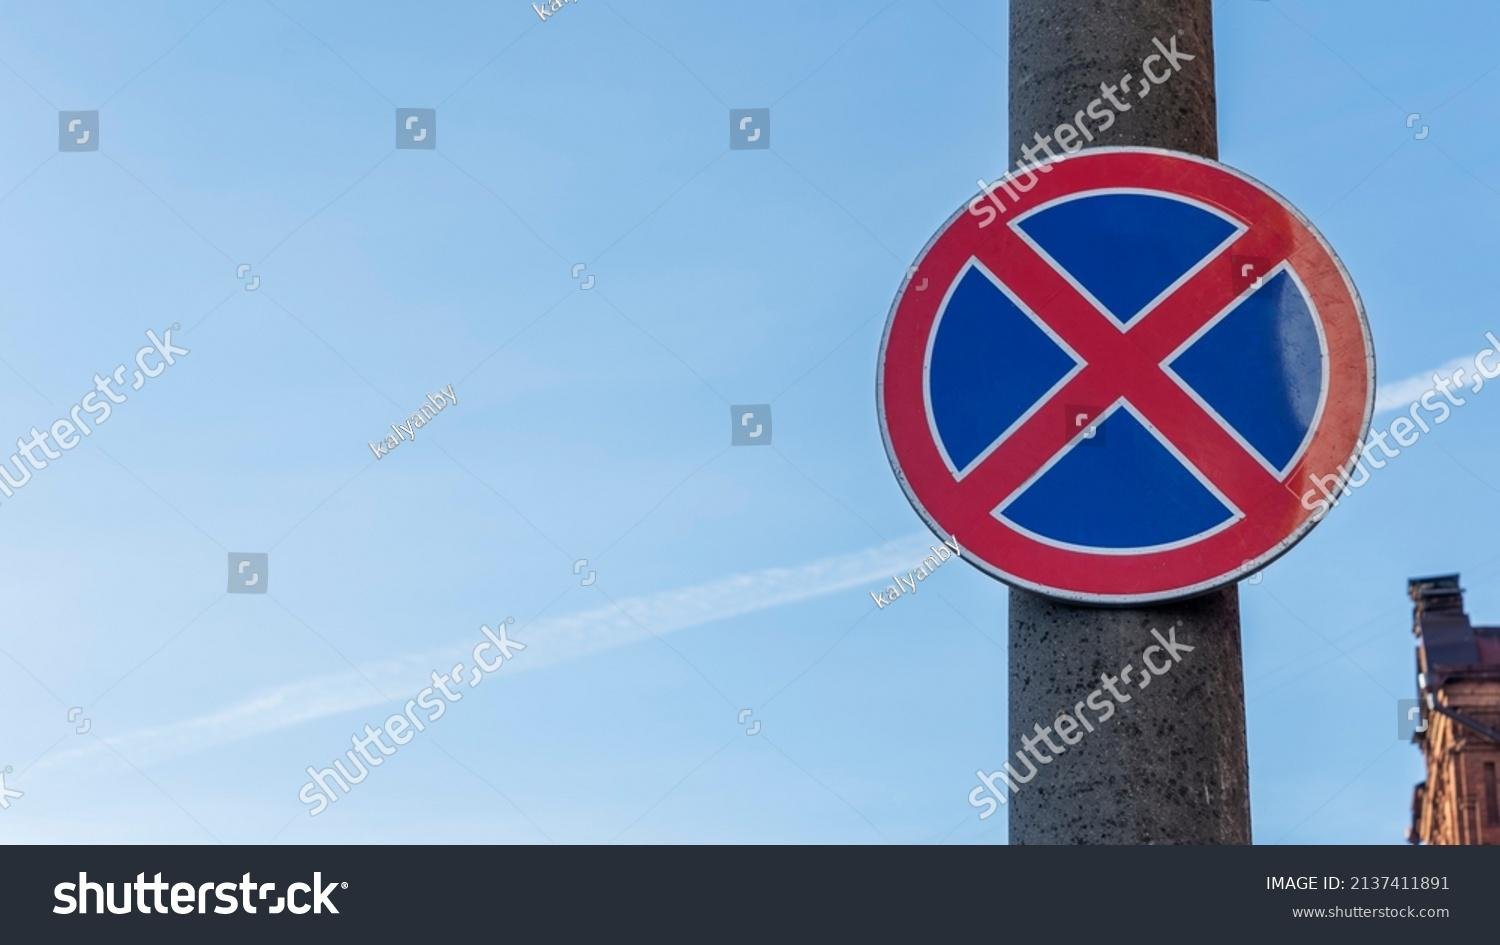No Stopping: (859, 122, 1415, 613)
